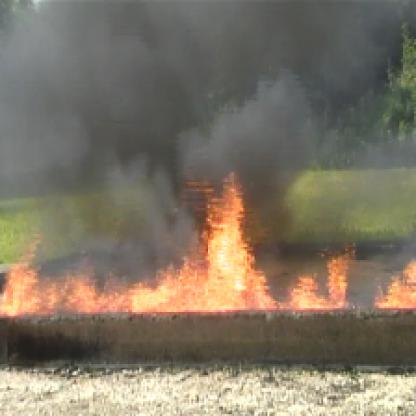Fire: (134, 169, 280, 316), (2, 238, 134, 319), (286, 243, 414, 310)
Smoke: (7, 2, 353, 173)
